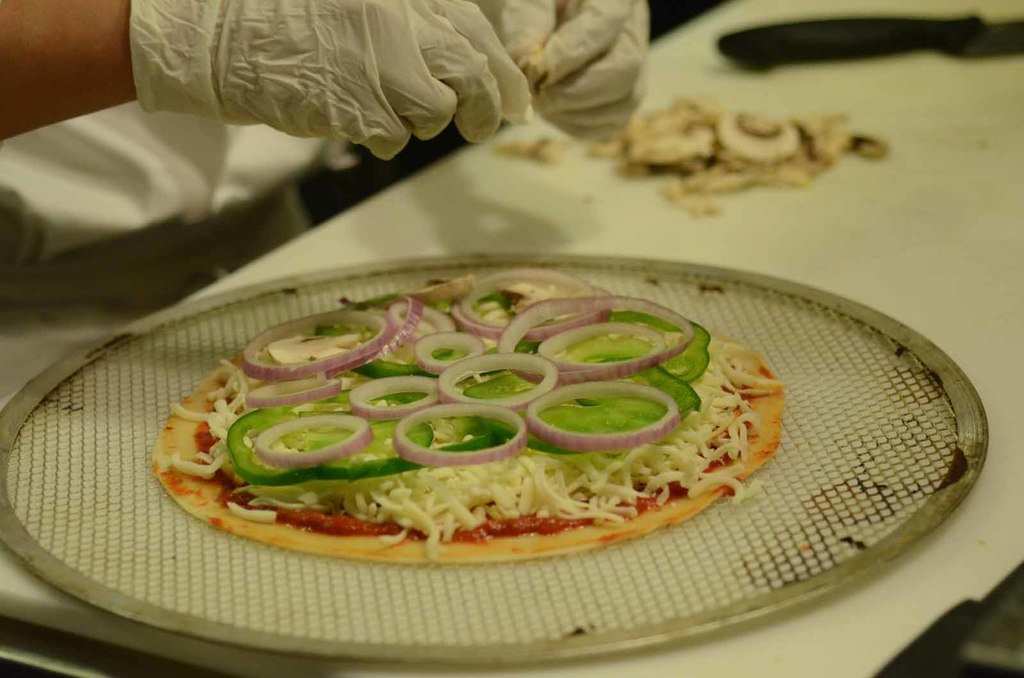Pizza: (130, 259, 796, 554)
